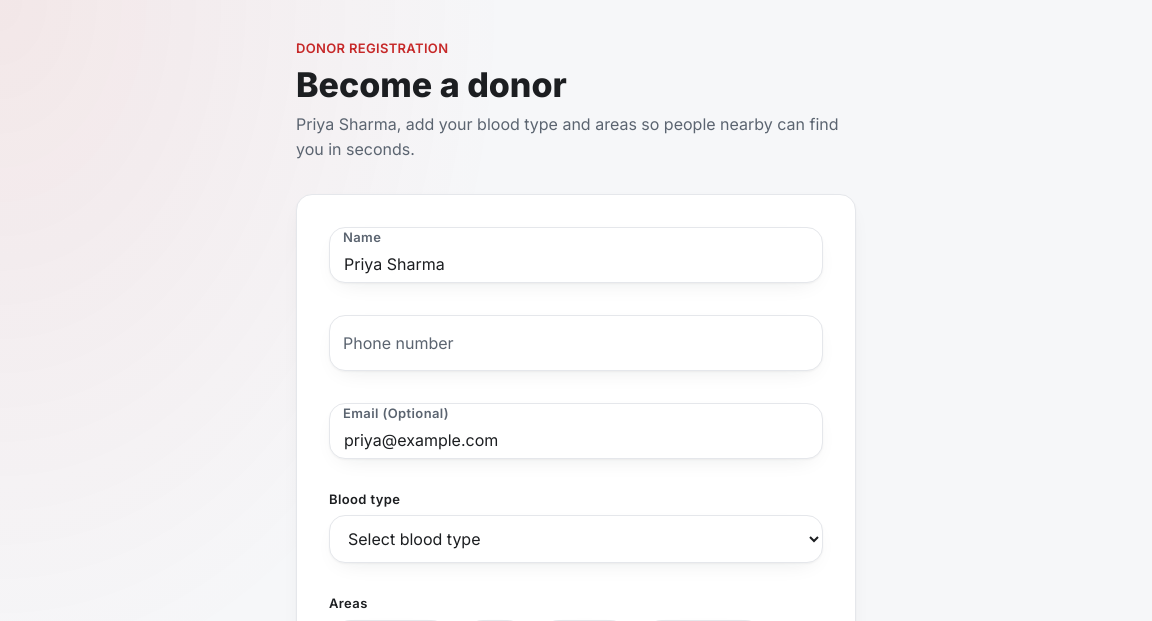
Test: Donor Registration screen › shows an inline error below the field on blur when invalid
Type "123" into the field labelled "Phone number" at [576, 343], box [329, 315, 823, 371]
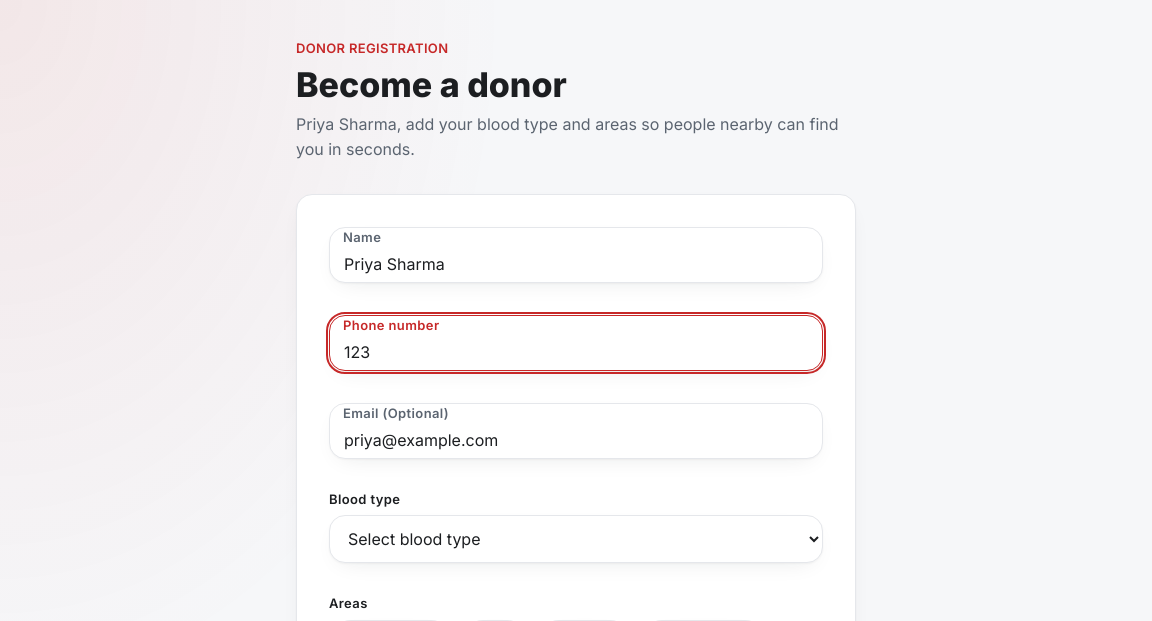
Press Tab
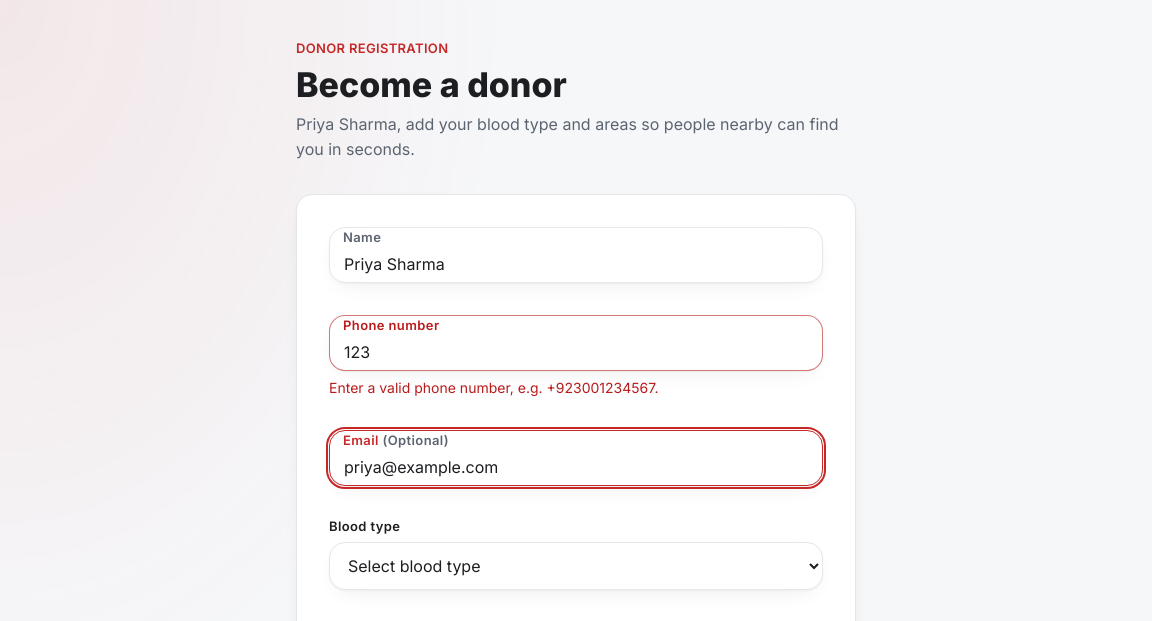
Now the message shows "valid phone number", box [329, 379, 658, 396]
